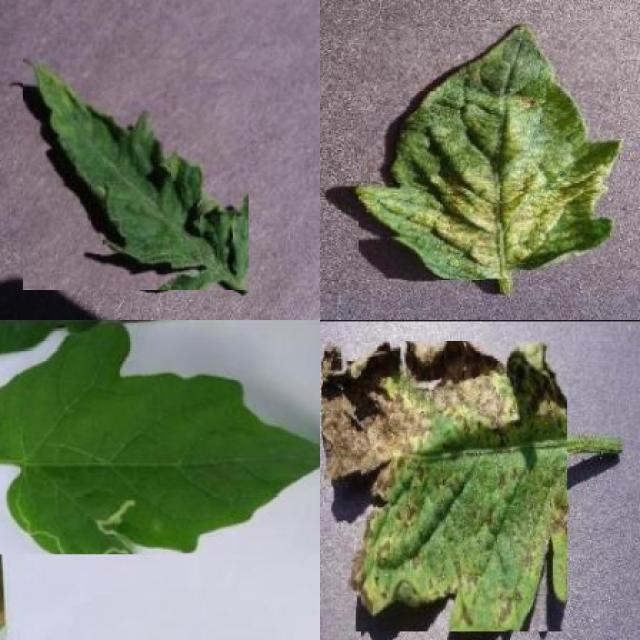Leaf Miner: (0, 320, 320, 554)
Mosaic Virus: (23, 59, 248, 290)
Septoria: (322, 340, 568, 631)
Spider Mites: (360, 22, 620, 278)
